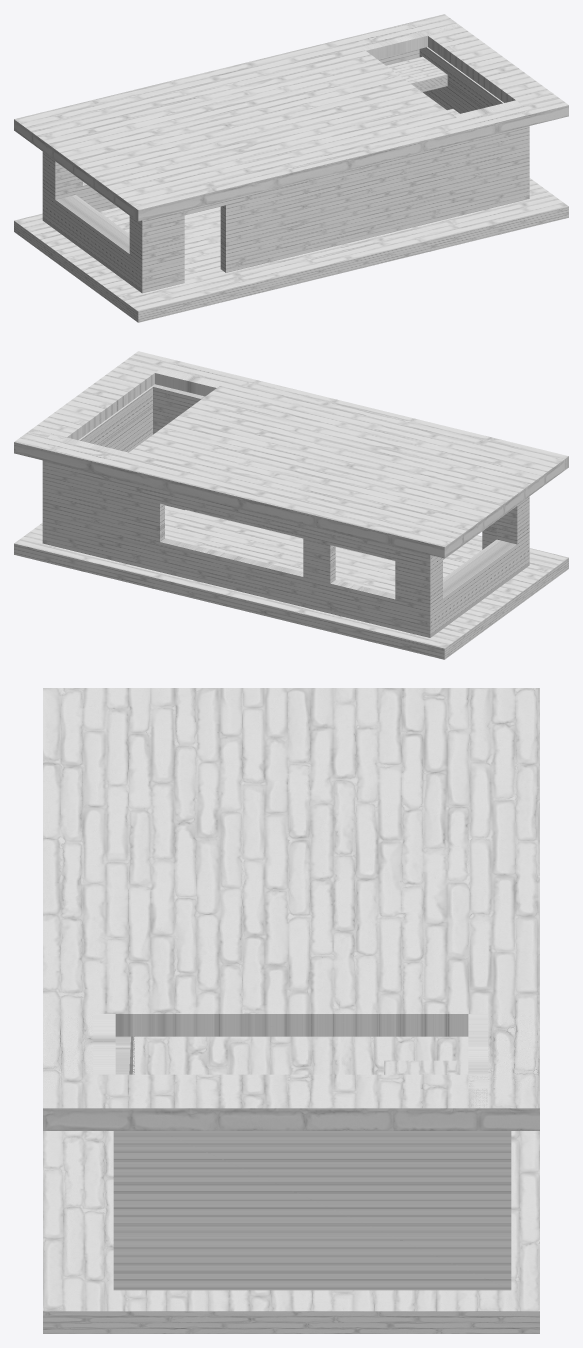
The model's file is Casa 2-1.fbx.
The picture shows the model from 3 angles, top to bottom: view 1: azimuth 30°, elevation 25°; view 2: azimuth 150°, elevation 25°; view 3: azimuth 270°, elevation 25°; orthographic projection. The views are drawn at different scales.
Visible parts, largest first — view 1: Techo.2, Predes2, Suelo.001, Escalera.002; view 2: Techo.2, Predes2, Suelo.001; view 3: Techo.2, Predes2, Suelo.001, Escalera.002.
Part boxes in pixels (box(x1,y1,x2,y2)): Techo.2: box(14, 14, 568, 221); Predes2: box(42, 47, 529, 293); Suelo.001: box(14, 178, 568, 322); Escalera.002: box(386, 56, 447, 92); Techo.2: box(14, 351, 568, 558); Predes2: box(42, 384, 529, 637); Suelo.001: box(14, 505, 568, 659); Techo.2: box(43, 688, 539, 1130); Predes2: box(113, 1036, 511, 1290); Suelo.001: box(43, 1036, 539, 1333); Escalera.002: box(384, 1060, 468, 1074).
Size of the model in its own units: 2000 by 500 by 1000.
